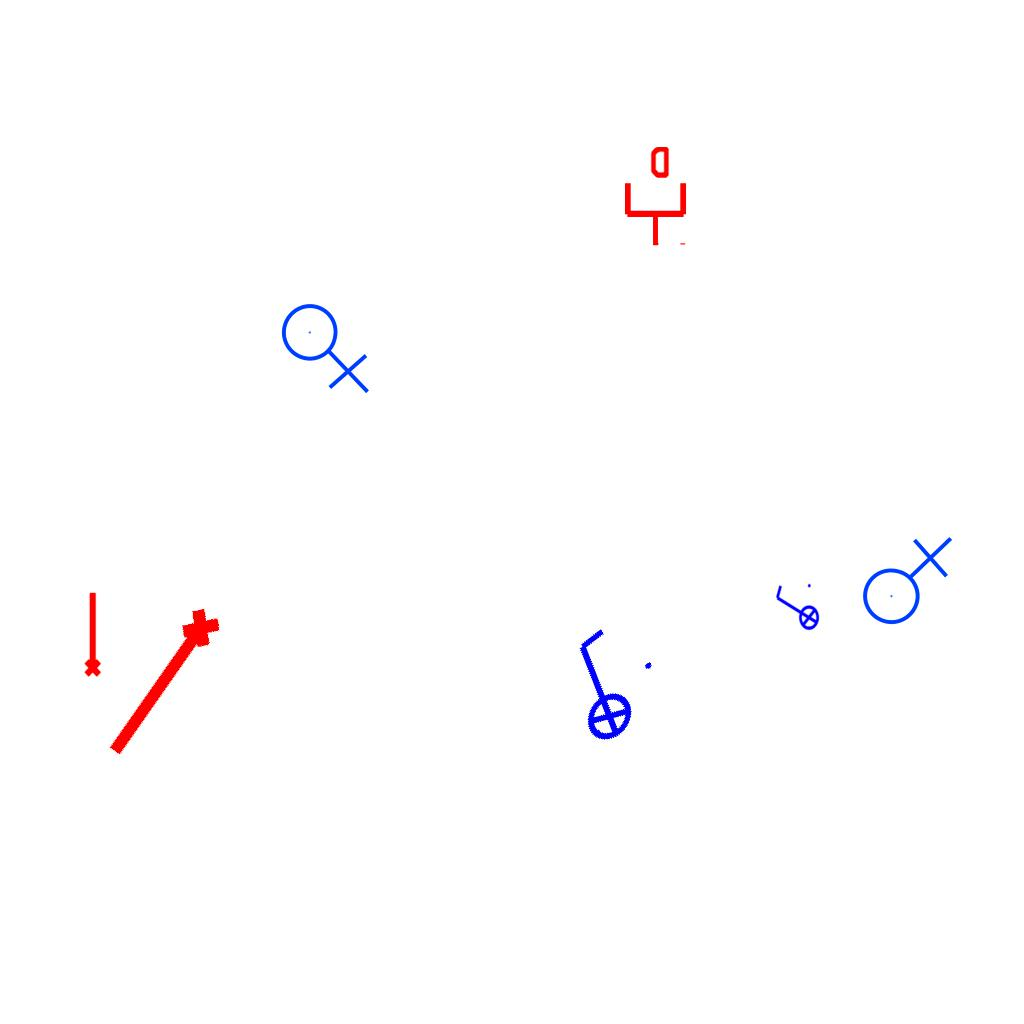ASR_Ansaugoeffnung: (94, 599, 234, 771), (80, 590, 103, 678)
Ausschalter_beleuchtet: (526, 613, 672, 761), (772, 581, 820, 637)
Datenanschluss_einfach: (621, 147, 690, 247)
Elektroanschluss_allgemein_230V_Geraeteanschlussdose_230V: (280, 295, 374, 394), (854, 532, 953, 626)
